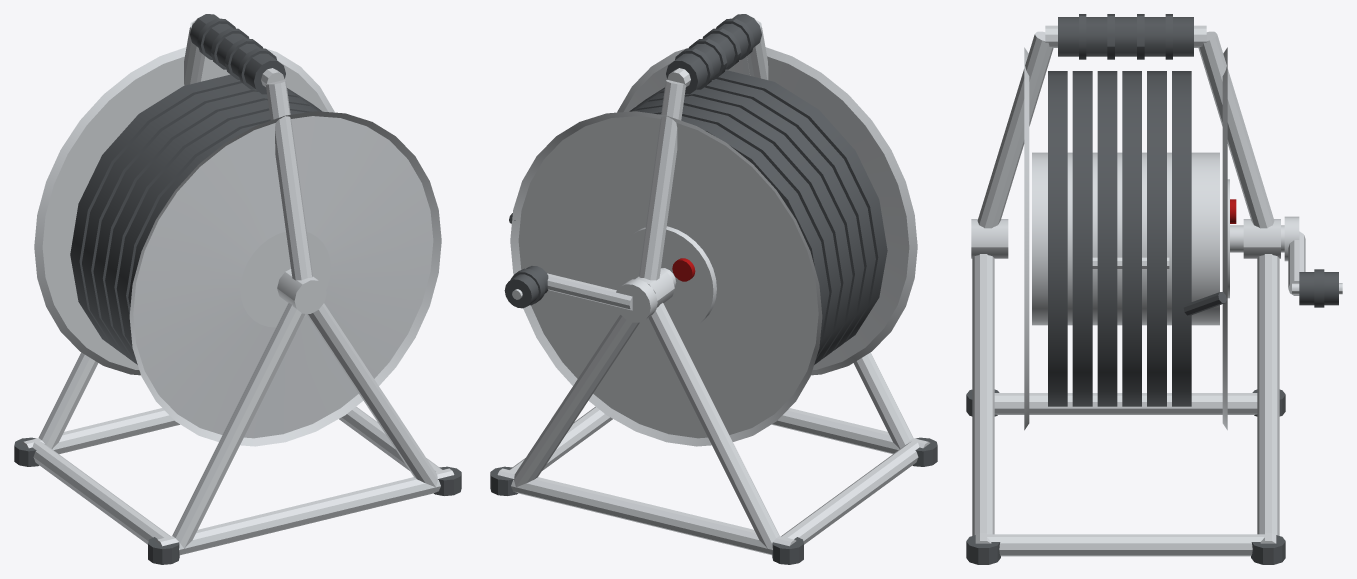
File: SEC_Cable_Reel.fbx
3 renders of one model, left to right at view 1: azimuth 30°, elevation 25°; view 2: azimuth 150°, elevation 25°; view 3: azimuth 270°, elevation 25°, orthographic. The views are drawn at different scales.
Visible parts, largest first — view 1: Flange_Left, Frame_Stand, Cable_Coil, Flange_Right; view 2: Flange_Right, Frame_Stand, Cable_Coil, Flange_Left, Crank_Handle; view 3: Frame_Stand, Cable_Coil, Drum, Crank_Handle, Flange_Right, Flange_Left.
Boxes of the visible parts, x1=… form: Flange_Left: x1=129, y1=111, x2=441, y2=446; Frame_Stand: x1=14, y1=14, x2=461, y2=564; Cable_Coil: x1=70, y1=74, x2=322, y2=364; Flange_Right: x1=34, y1=47, x2=334, y2=375; Flange_Right: x1=510, y1=111, x2=822, y2=446; Frame_Stand: x1=490, y1=14, x2=937, y2=564; Cable_Coil: x1=509, y1=70, x2=887, y2=364; Flange_Left: x1=617, y1=47, x2=917, y2=375; Crank_Handle: x1=504, y1=266, x2=676, y2=322; Frame_Stand: x1=966, y1=14, x2=1285, y2=564; Cable_Coil: x1=1048, y1=71, x2=1226, y2=406; Drum: x1=1032, y1=152, x2=1219, y2=325; Crank_Handle: x1=1230, y1=216, x2=1342, y2=307; Flange_Right: x1=1222, y1=47, x2=1236, y2=430; Flange_Left: x1=1024, y1=47, x2=1029, y2=430.
Bounding box in the file's own units: 31.41 × 41.75 × 30.4.
2 materials, 1 textured.
